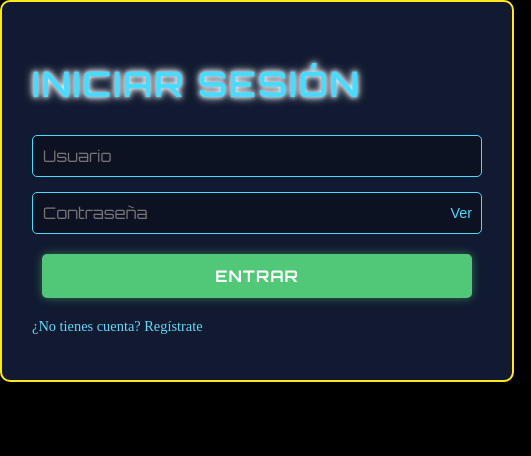
Scenario: Componente Auth › 2. Cambia a modo de registro al hacer clic en el enlace
The width and height of the screenshot is (531, 456).
Click the text "¿No tienes cuenta? Regístrate": (117, 326) [32, 318, 203, 334]
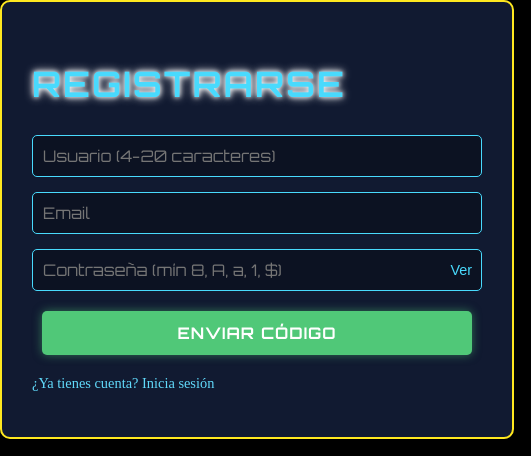
Now the heading "Registrarse" is shown, box [32, 61, 346, 106]
Now the field with placeholder "Usuario (4-20 caracteres)" is shown, box [32, 135, 482, 177]
Now the field with placeholder "Email" is shown, box [32, 192, 482, 234]
